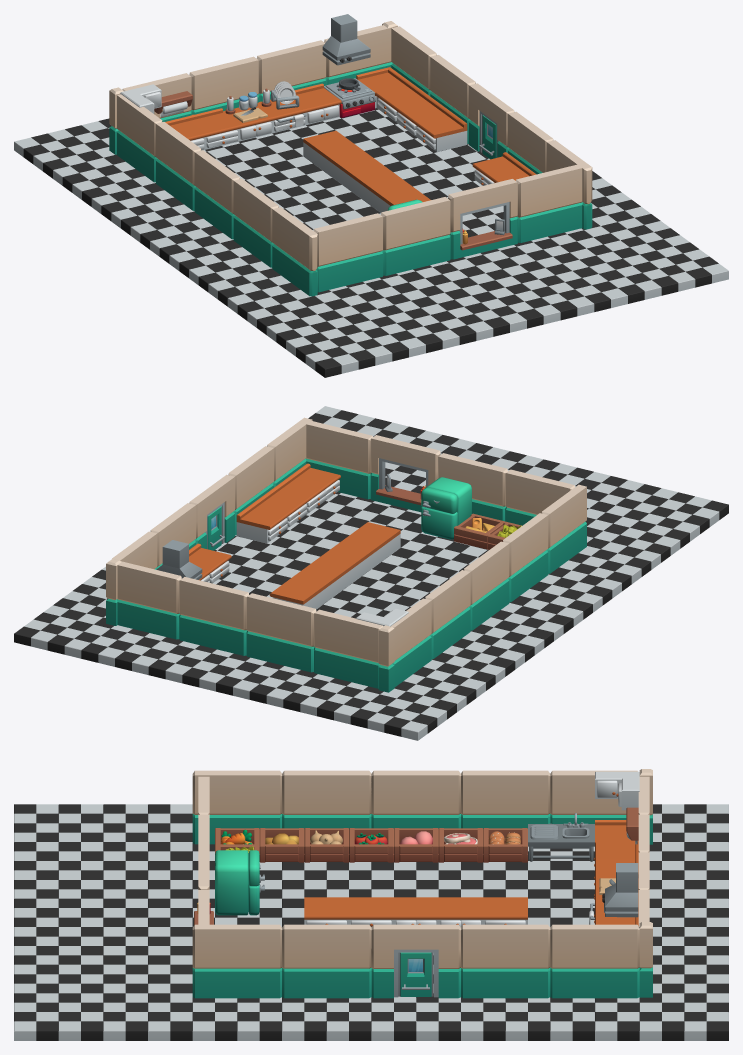
File: map2_basic_ex.glb
3 renders of one model, top to bottom at view 1: azimuth 30°, elevation 25°; view 2: azimuth 150°, elevation 25°; view 3: azimuth 270°, elevation 25°, orthographic. The views are drawn at different scales.
Parts seen in each view (by area): view 1: floor_kitchen_small; view 2: floor_kitchen_small; view 3: floor_kitchen_small.
Part boxes in pixels (x1,y1,x2,y2): floor_kitchen_small: (14, 14, 728, 377); floor_kitchen_small: (14, 406, 728, 740); floor_kitchen_small: (14, 769, 728, 1040).
Bounding box in the file's own units: 24 × 5.4 × 32.
58 materials, 58 textured.
